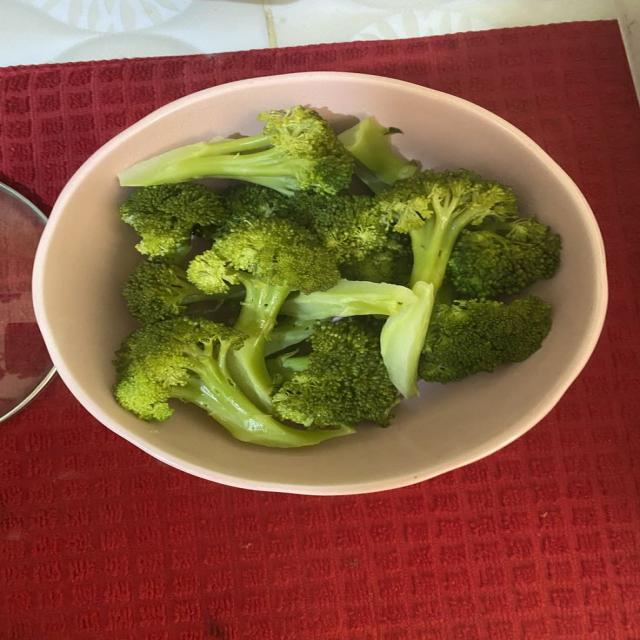broccoli: (376, 170, 517, 396), (114, 317, 352, 447), (187, 218, 339, 410), (119, 106, 353, 195), (281, 280, 434, 395), (376, 170, 517, 289), (274, 319, 398, 429), (420, 295, 551, 382), (447, 218, 561, 298), (120, 183, 225, 262), (290, 192, 388, 264), (123, 260, 220, 324), (339, 117, 417, 192), (281, 280, 417, 320), (340, 231, 412, 285), (220, 183, 292, 232), (265, 317, 315, 356)
